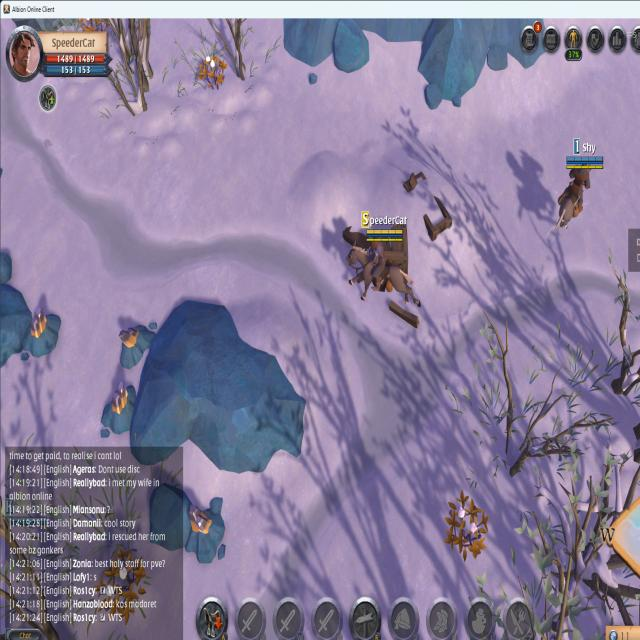copper: (184, 500, 227, 563), (22, 303, 62, 361), (115, 315, 157, 369)
cotton: (96, 542, 150, 624), (442, 486, 490, 564), (196, 52, 226, 92)
